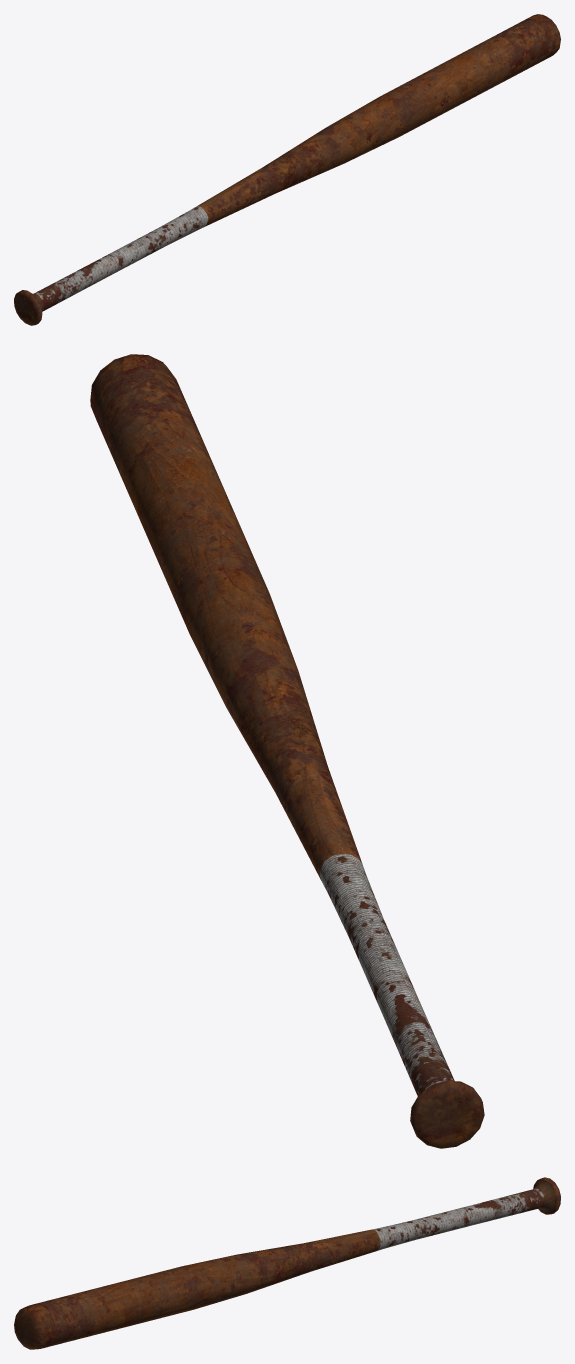
Rendered from Anim_idle_bate_objetos.0033.obj.
3 views of the same model, one above another, from view 1: azimuth 90°, elevation 25°; view 2: azimuth 150°, elevation 25°; view 3: azimuth 270°, elevation 25° (orthographic). The views are drawn at different scales.
Parts seen in each view (by area): view 1: Bate1; view 2: Bate1; view 3: Bate1.
Part boxes in pixels (x1=…): Bate1: x1=14, y1=14, x2=560, y2=325; Bate1: x1=90, y1=354, x2=484, y2=1148; Bate1: x1=14, y1=1177, x2=560, y2=1349.
Bounding box in the file's own units: 3.8 × 0.8794 × 4.06.
